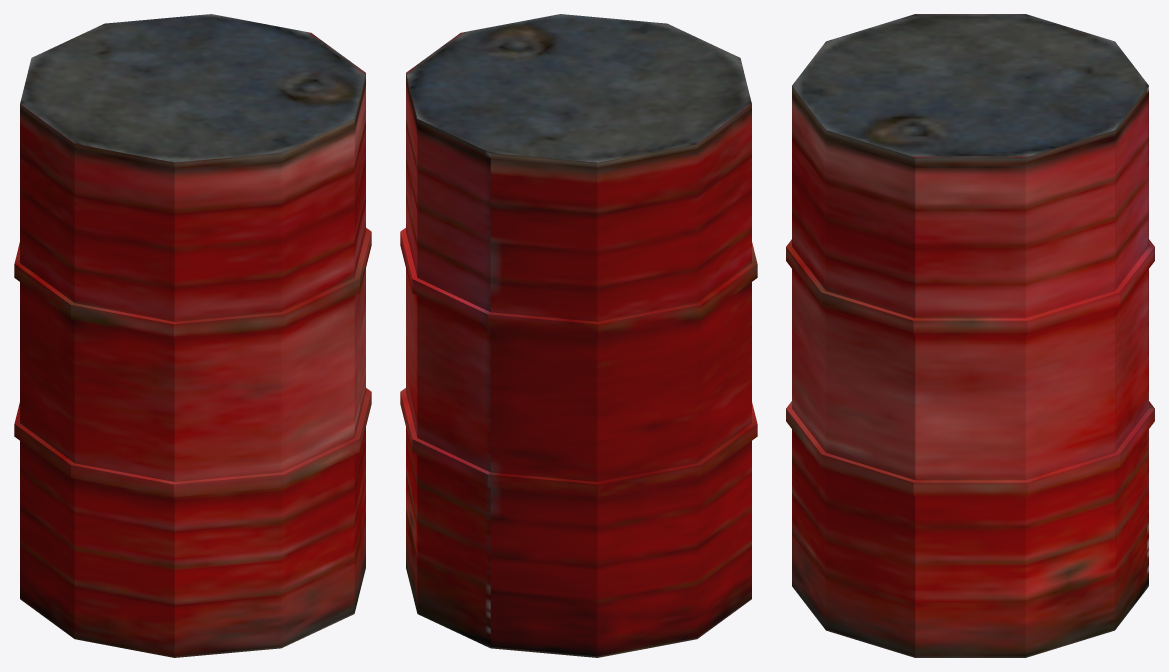
The model's file is game_asset_explosive_barrel.glb.
3 views of the same model, side by side, from view 1: azimuth 30°, elevation 25°; view 2: azimuth 150°, elevation 25°; view 3: azimuth 270°, elevation 25° (orthographic).
Visible parts, largest first — view 1: Cylinder; view 2: Cylinder; view 3: Cylinder.
Boxes of the visible parts, x1,y1,x2,y2 form: Cylinder: (14,14,371,657); Cylinder: (400,14,757,657); Cylinder: (786,14,1154,657).
Bounding box in the file's own units: 1.08 × 1.7 × 1.14.
1 material, 1 textured.
